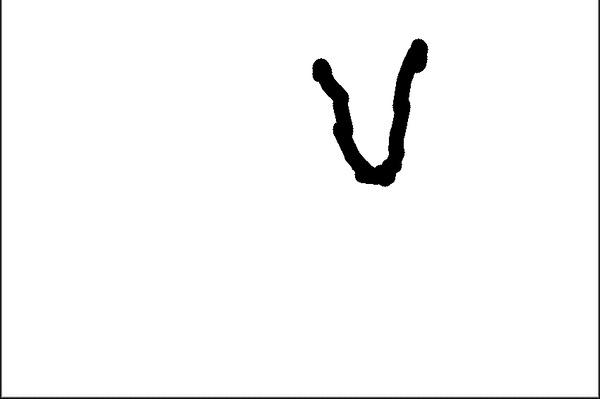V: (305, 36, 458, 202)
